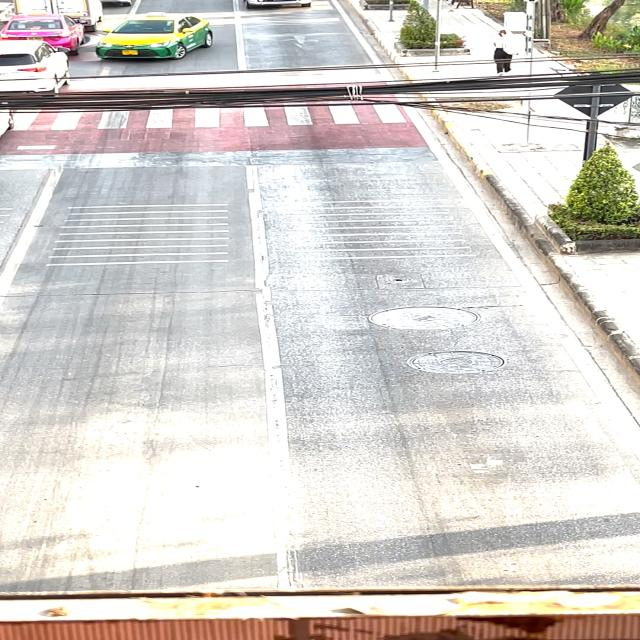car: (94, 14, 238, 80)
